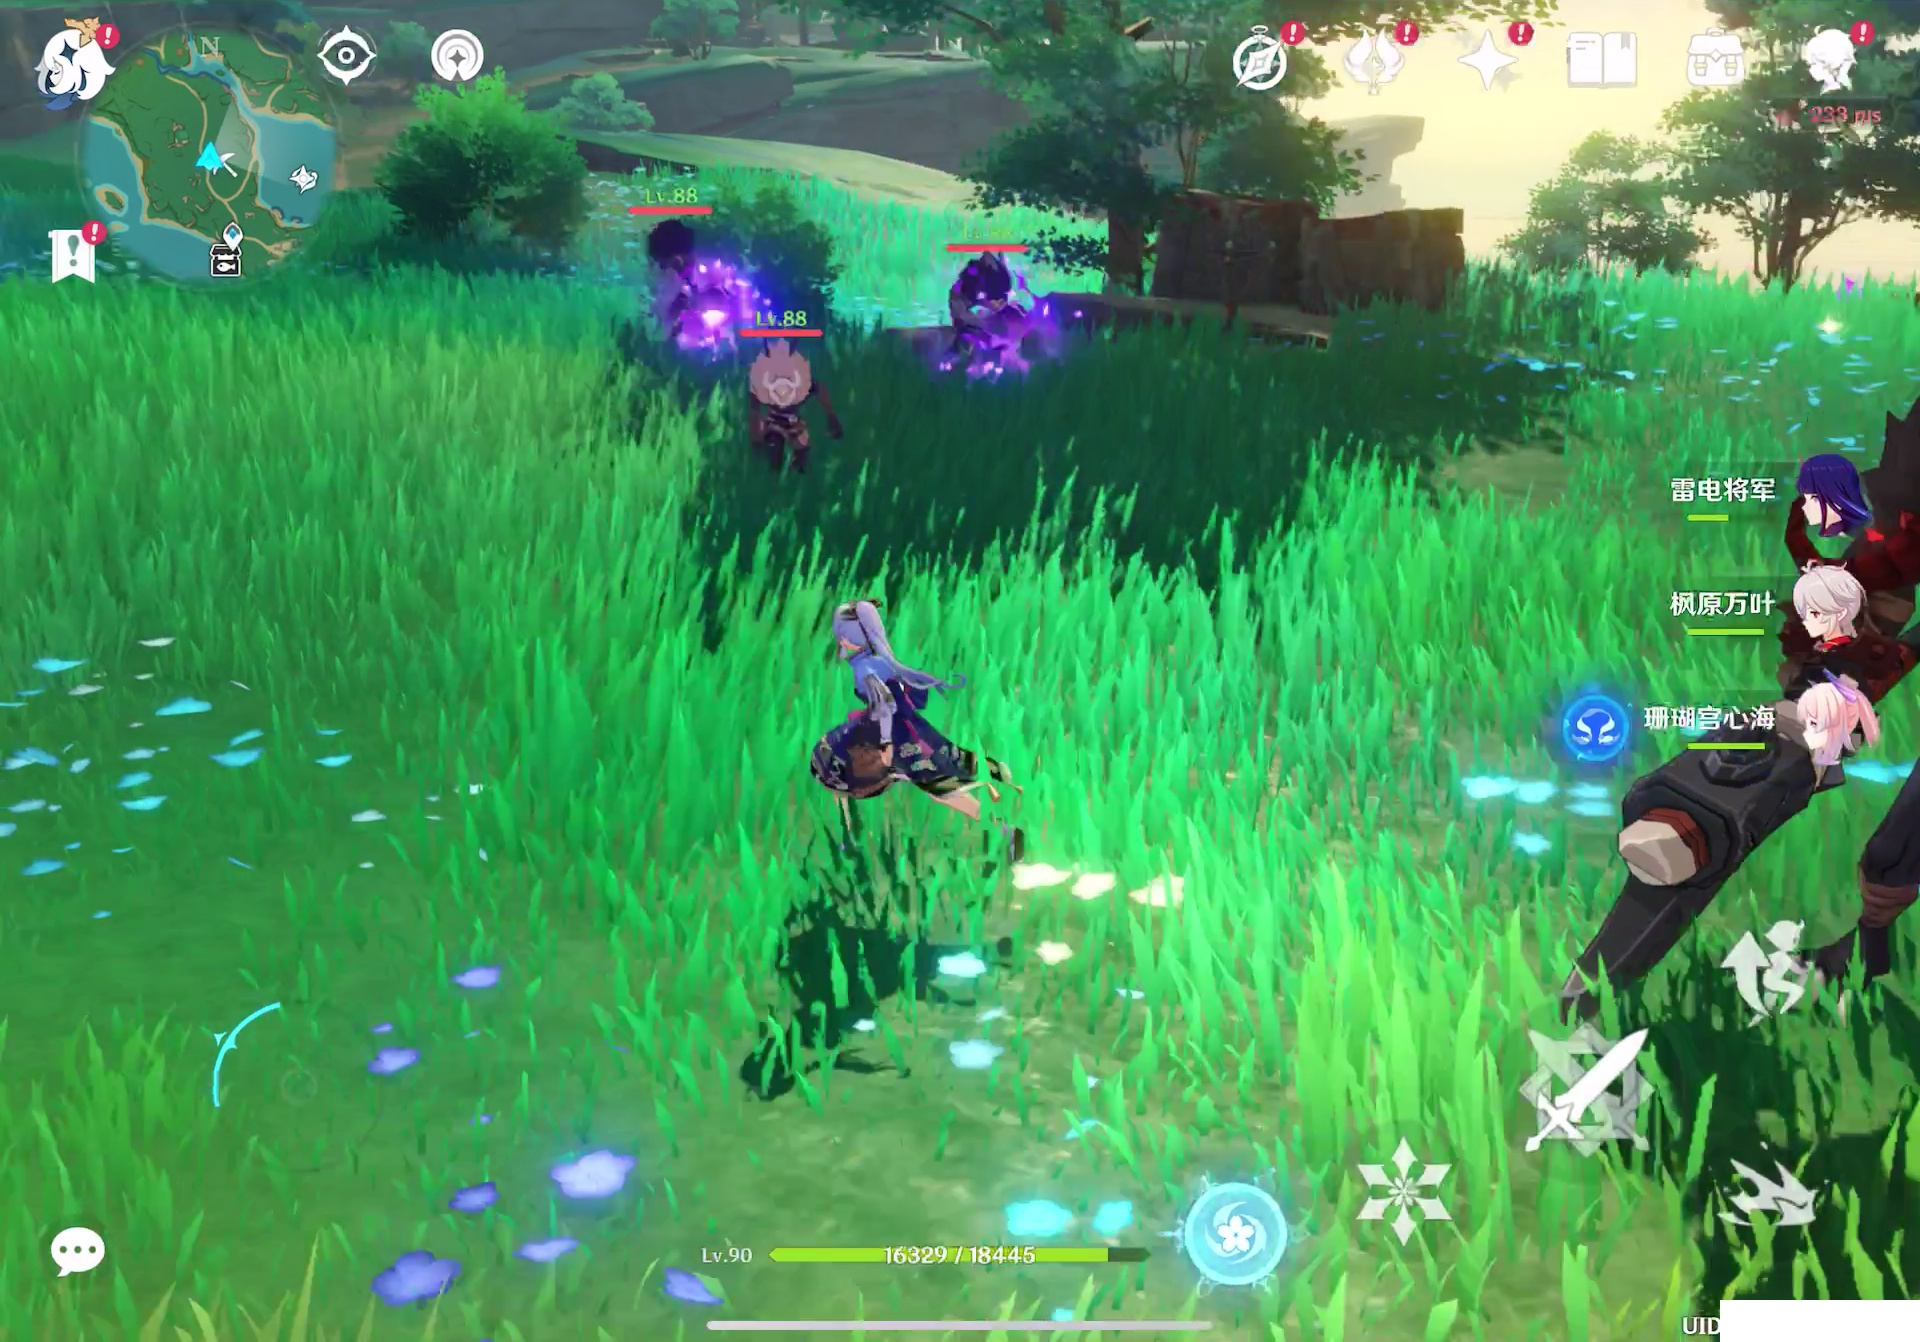丘丘人: (729, 346, 856, 481), (945, 251, 1050, 384), (654, 228, 748, 346)
神里绫龟: (802, 582, 998, 845)
